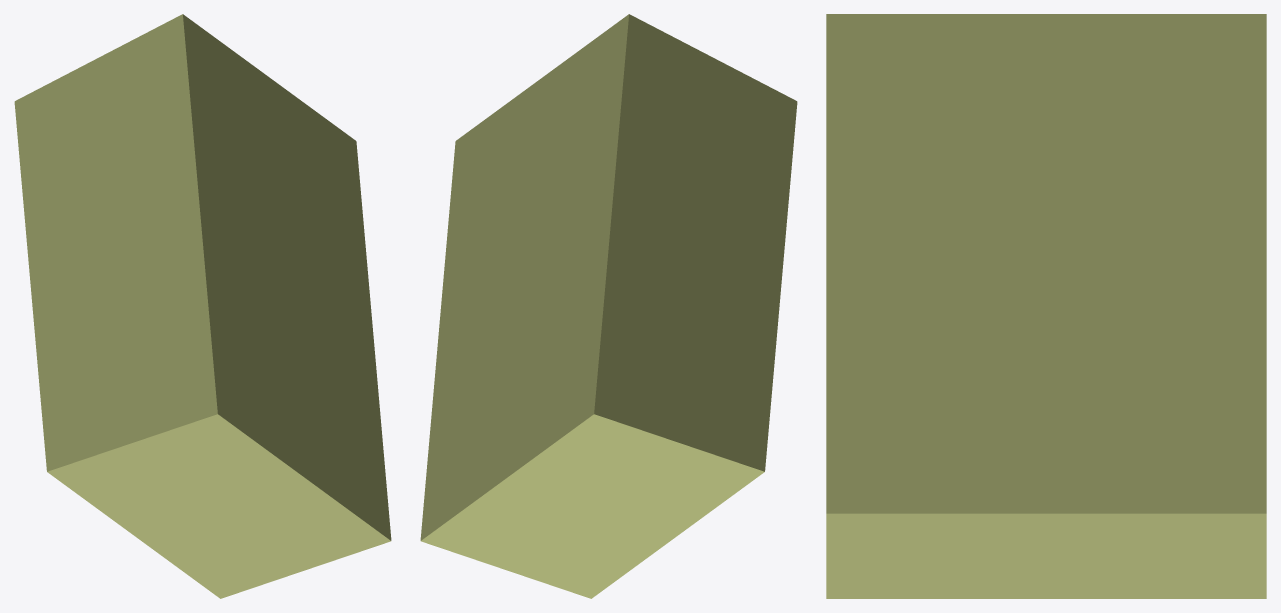
The picture shows the model from 3 angles, left to right: view 1: azimuth 30°, elevation 25°; view 2: azimuth 150°, elevation 25°; view 3: azimuth 270°, elevation 25°; orthographic projection. The views are drawn at different scales.
Visible parts, largest first — view 1: 0_1_0_0_2_2_0_2_1_0; view 2: 0_1_0_0_2_2_0_2_1_0; view 3: 0_1_0_0_2_2_0_2_1_0.
Part boxes in pixels (box(x1,y1,x2,y2)): 0_1_0_0_2_2_0_2_1_0: box(14, 14, 391, 598); 0_1_0_0_2_2_0_2_1_0: box(420, 14, 797, 598); 0_1_0_0_2_2_0_2_1_0: box(826, 14, 1266, 598).
Bounding box in the file's own units: 6.09 × 12.15 × 9.
